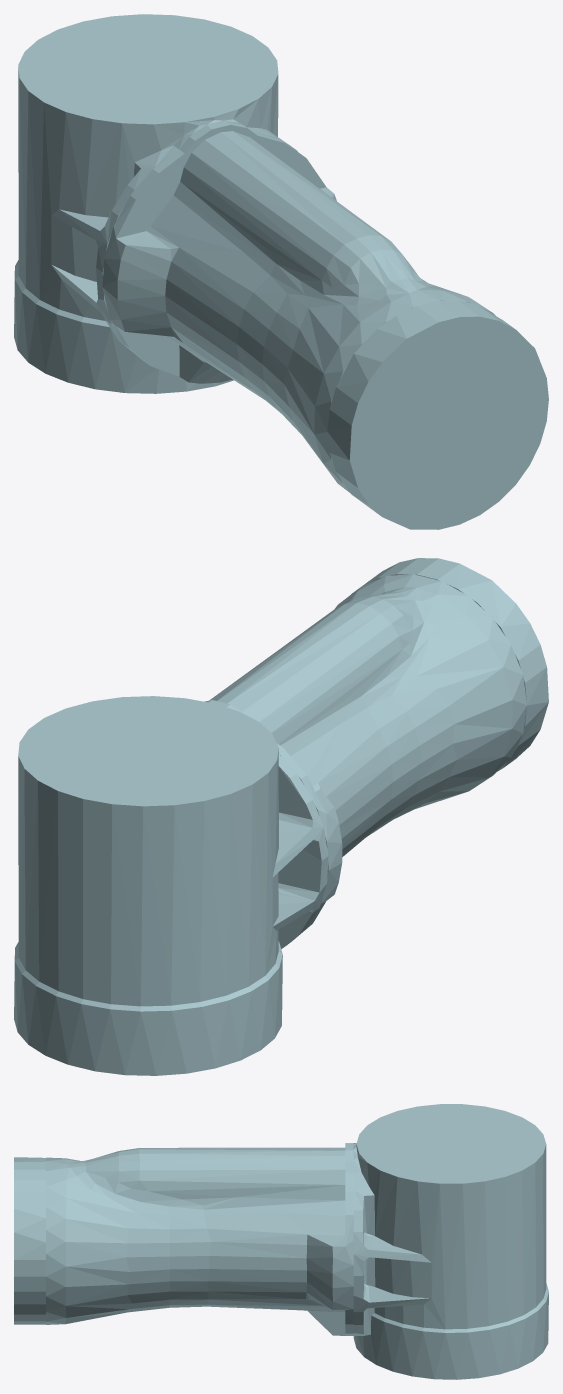
3 renders of one model, top to bottom at view 1: azimuth 30°, elevation 25°; view 2: azimuth 150°, elevation 25°; view 3: azimuth 270°, elevation 25°, orthographic. The views are drawn at different scales.
Visible parts, largest first — view 1: link2; view 2: link2; view 3: link2.
Boxes of the visible parts, box(x1,y1,x2,y2) form: link2: box(14, 14, 548, 529); link2: box(14, 558, 548, 1075); link2: box(14, 1104, 548, 1379).
Size of the model in its own units: 0.1398 by 0.154 by 0.3835.
